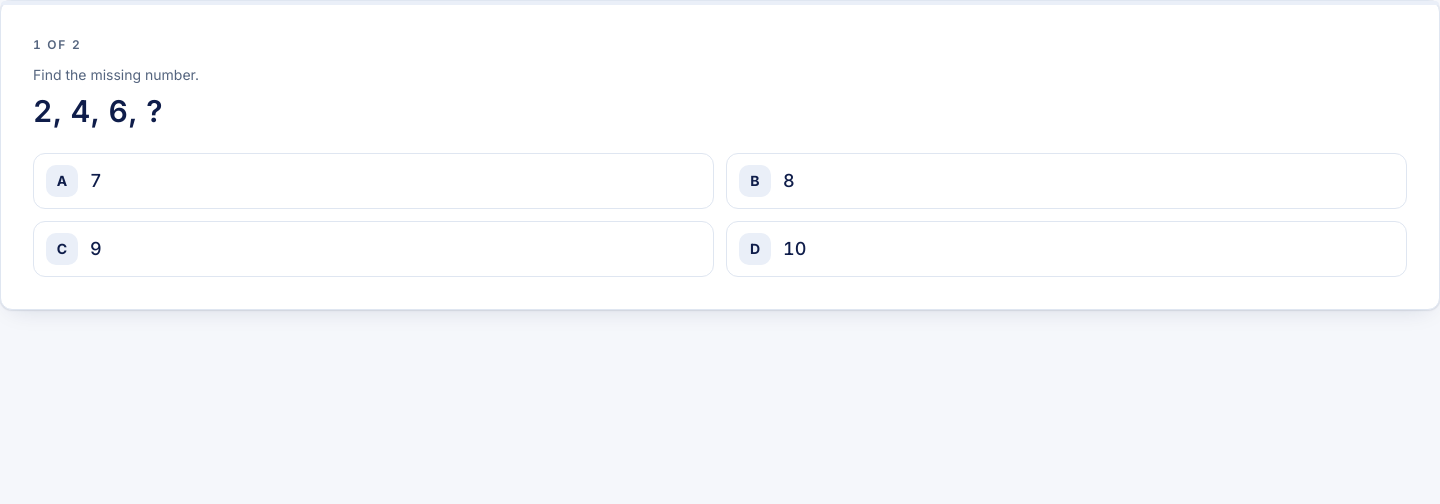
chapter practice › moves to the next question and ends on the tally
The width and height of the screenshot is (1440, 504).
Click the button named "Option B" at (755, 181), box [726,153,1407,209]
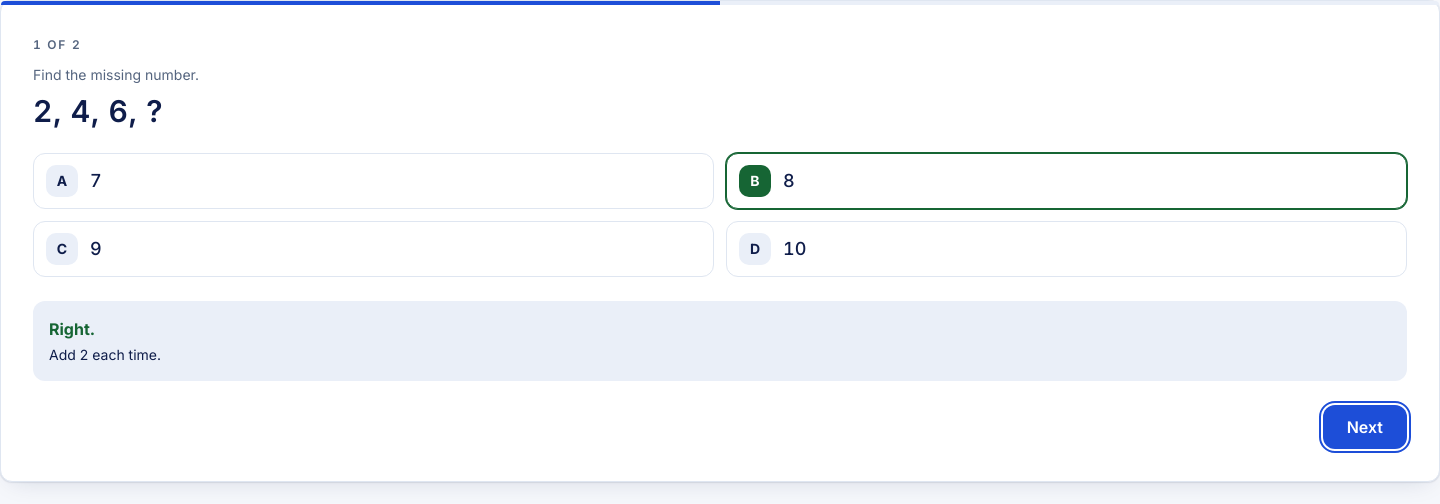
Click the button "Next" at (1365, 427), box [1323,405,1407,449]
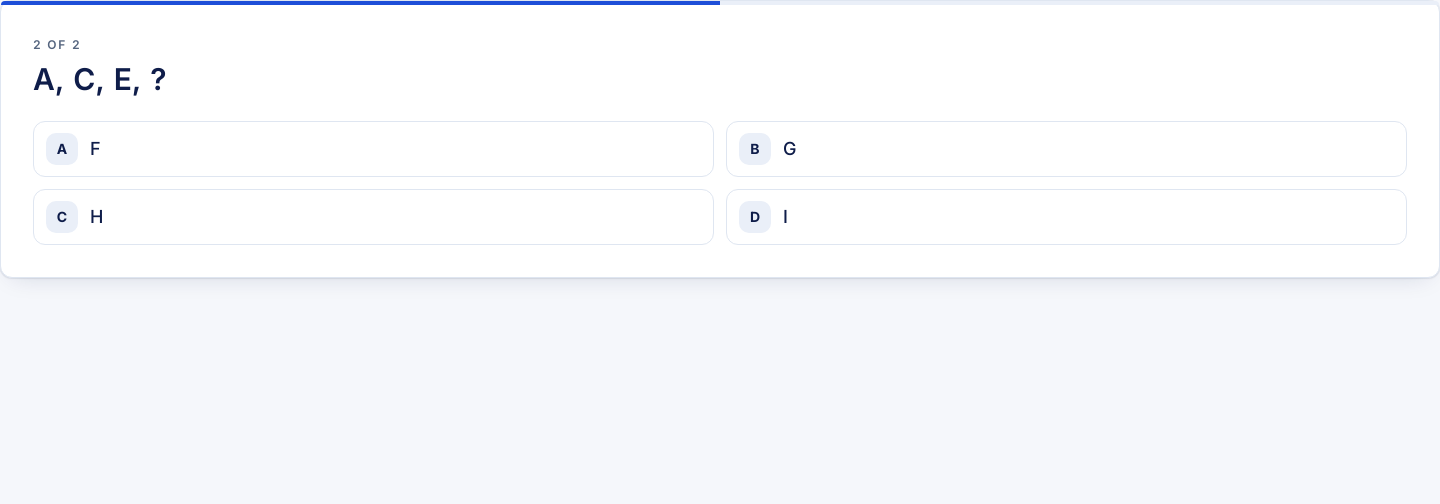
Now the text "A, C, E, ?" is shown, box [33,61,167,97]
Now the text "2 of 2" is shown, box [33,37,81,52]
Click the button named "Option A" at (62, 149), box [33,121,714,177]
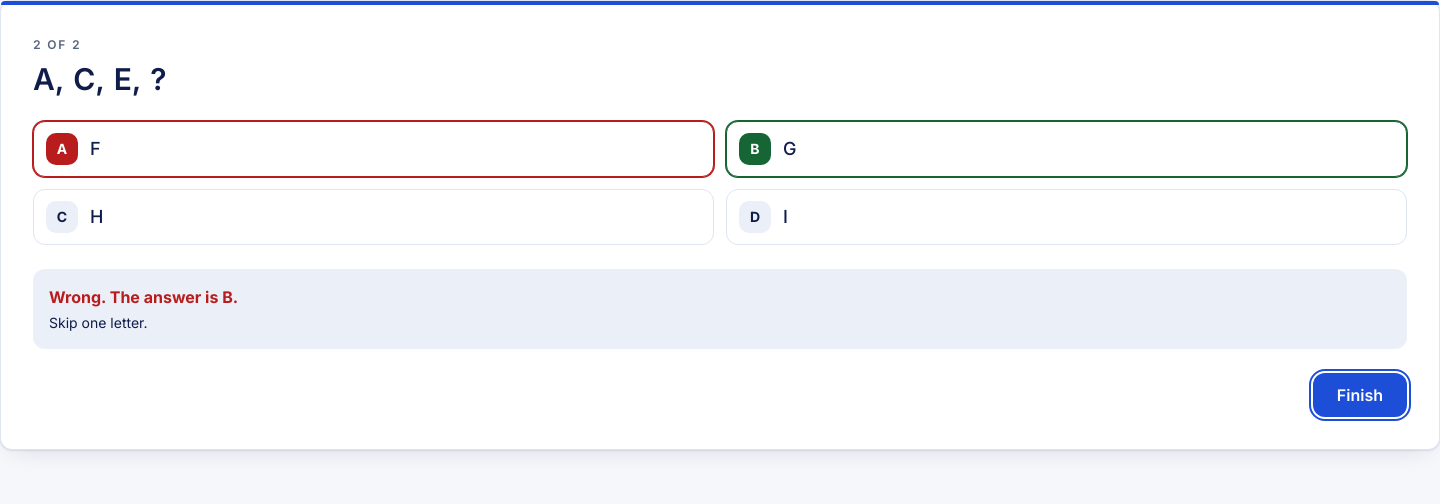
Click the button "Finish" at (1360, 395), box [1313,373,1407,417]
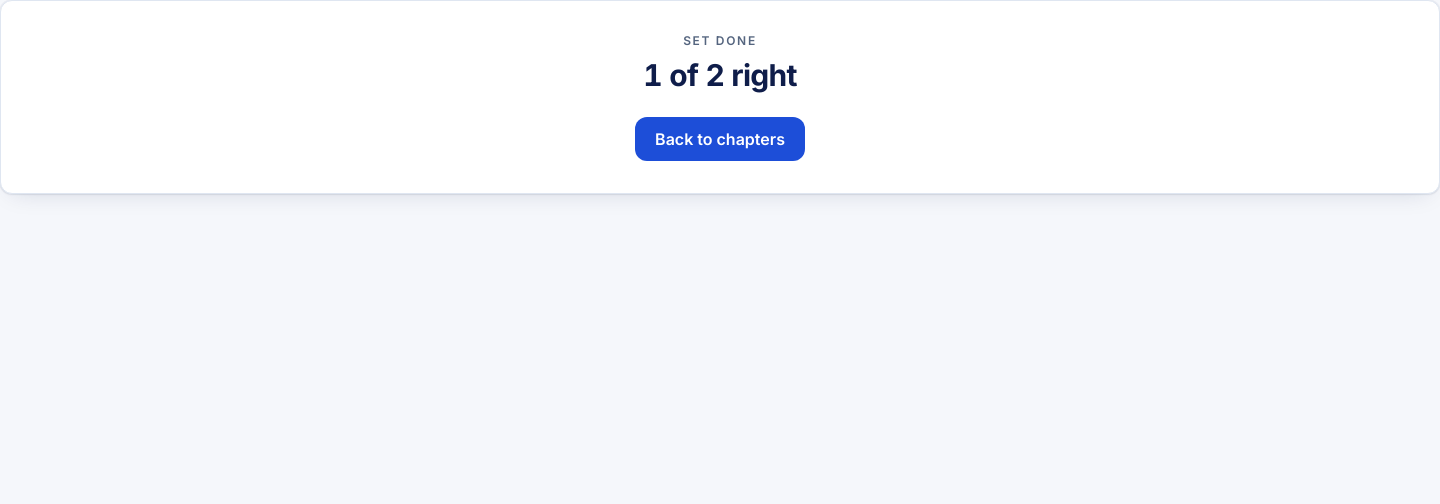
Now the heading "1 of 2 right" is shown, box [643,57,797,93]
